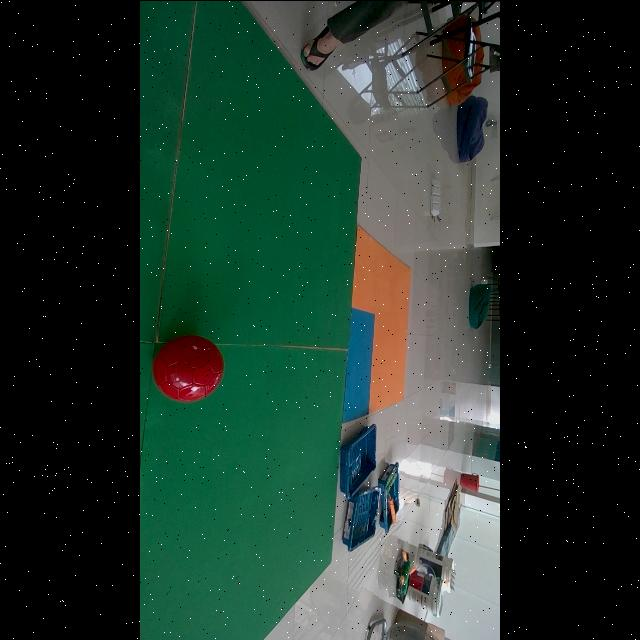R: (153, 334, 224, 402)
